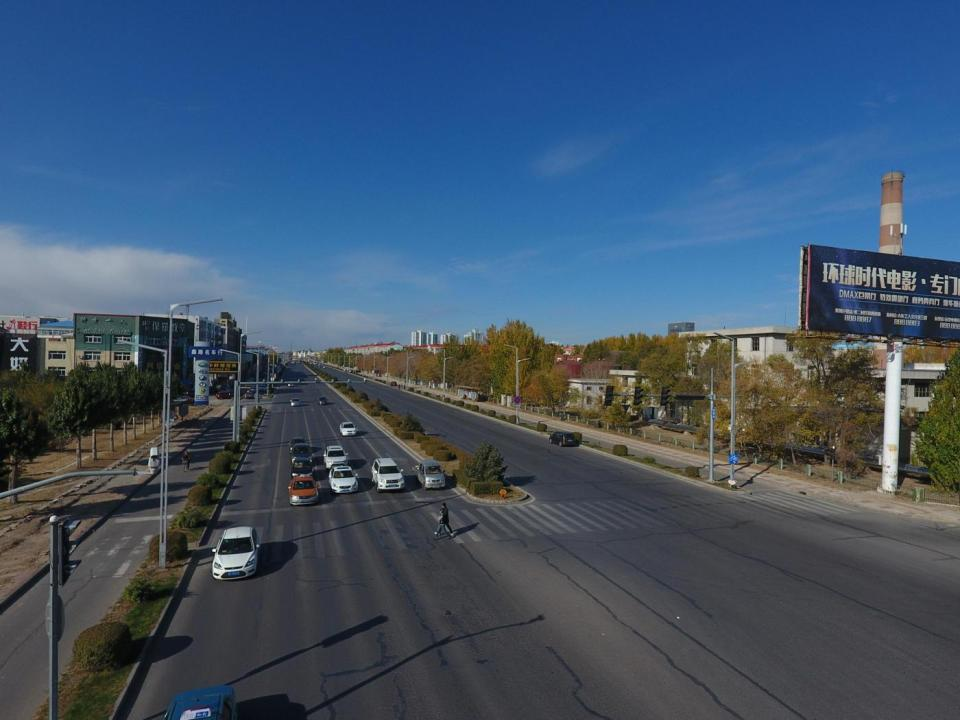car: (212, 524, 258, 583), (371, 457, 405, 493), (289, 474, 318, 506), (328, 466, 358, 493), (324, 445, 348, 469), (291, 457, 314, 481), (290, 443, 313, 465), (290, 437, 307, 453), (340, 422, 356, 436), (216, 391, 237, 400), (222, 390, 242, 397), (317, 396, 327, 404), (290, 398, 300, 406), (225, 390, 243, 394), (244, 392, 255, 398), (258, 384, 266, 391), (247, 389, 255, 395), (288, 380, 294, 386), (250, 387, 257, 392), (390, 382, 396, 386), (323, 366, 326, 368), (319, 366, 321, 368)
truck: (412, 459, 446, 491)
van: (549, 430, 576, 446)
